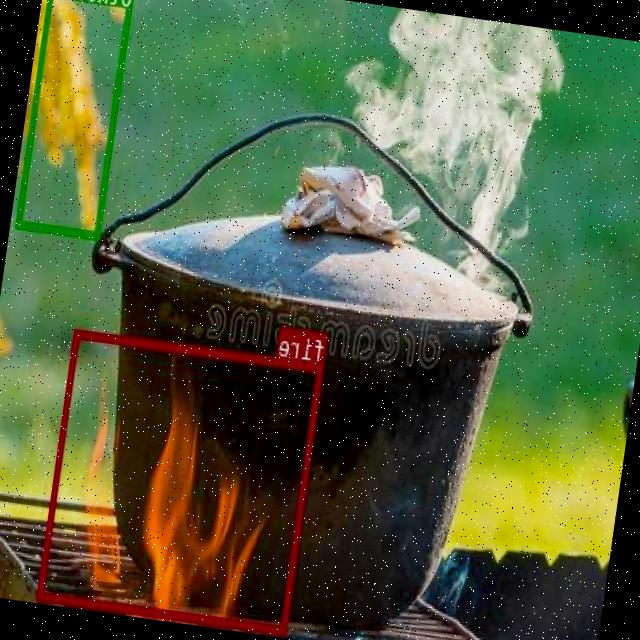fire: (38, 330, 324, 634)
